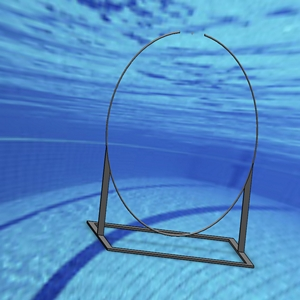circle: (87, 28, 258, 268)
